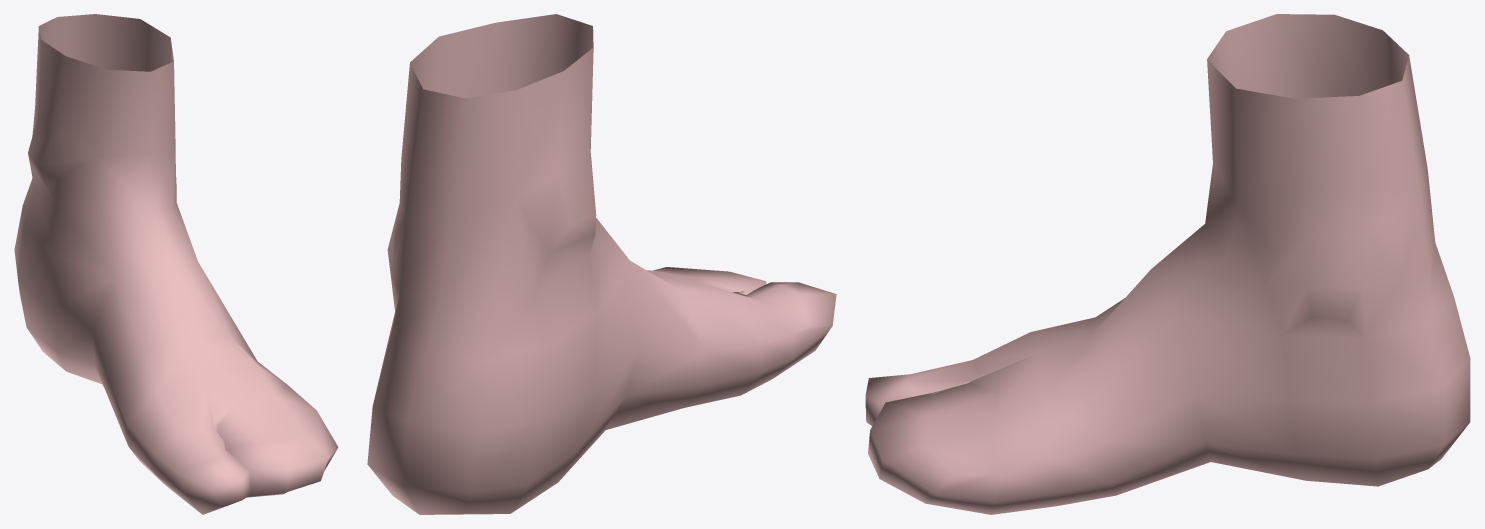
The model's file is Base_Male_A_Foot03.fbx.
3 views of the same model, side by side, from view 1: azimuth 30°, elevation 25°; view 2: azimuth 150°, elevation 25°; view 3: azimuth 270°, elevation 25° (orthographic). The views are drawn at different scales.
Parts seen in each view (by area): view 1: Base_Male_A_Foot03; view 2: Base_Male_A_Foot03; view 3: Base_Male_A_Foot03.
Part boxes in pixels (x1,y1,x2,y2): Base_Male_A_Foot03: (14,14,338,514); Base_Male_A_Foot03: (367,14,836,514); Base_Male_A_Foot03: (865,14,1470,514).
Size of the model in its own units: 0.6024 by 1.14 by 1.46.
